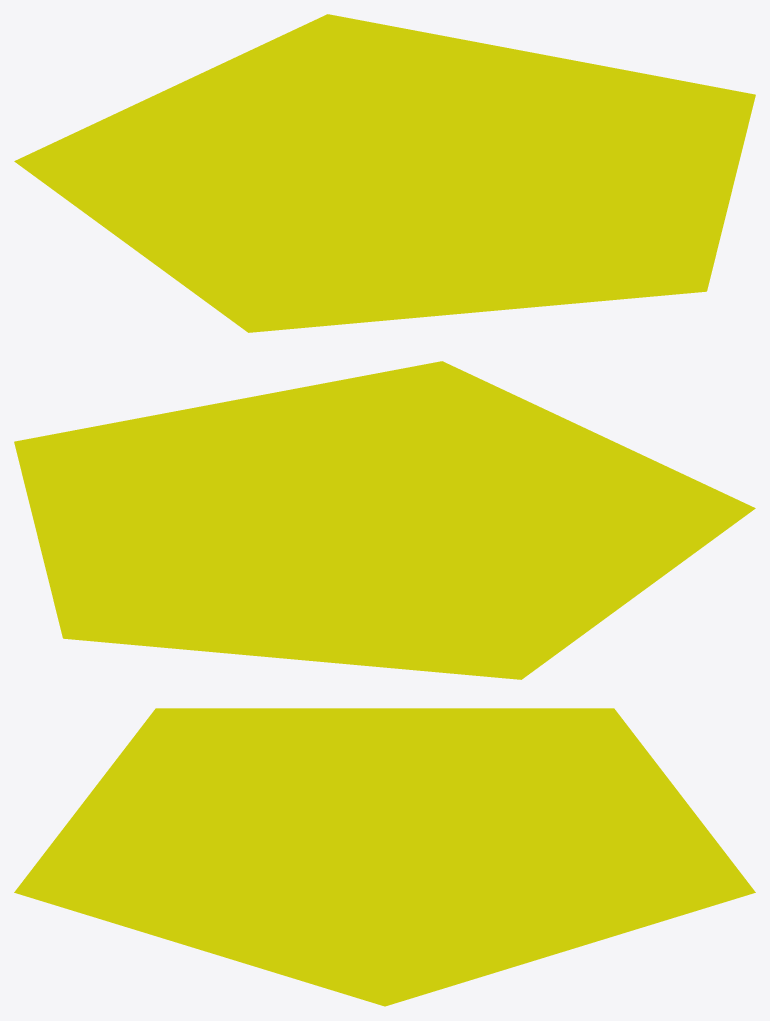
File: flower_bud_C.fbx
3 views of the same model, one above another, from view 1: azimuth 30°, elevation 25°; view 2: azimuth 150°, elevation 25°; view 3: azimuth 270°, elevation 25° (orthographic). The views are drawn at different scales.
Visible parts, largest first — view 1: flower_bud_C; view 2: flower_bud_C; view 3: flower_bud_C.
Boxes of the visible parts, x1,y1,x2,y2 form: flower_bud_C: (14,14,755,332); flower_bud_C: (14,361,755,679); flower_bud_C: (14,708,755,1006).
Size of the model in its own units: 7.11 by 0 by 7.48.
